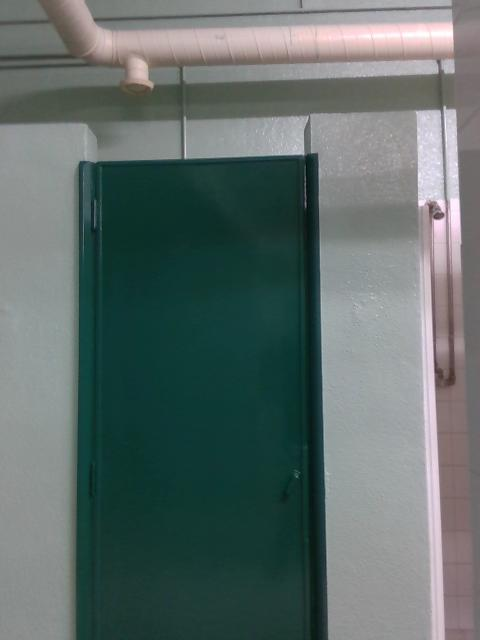door: (91, 160, 307, 640)
